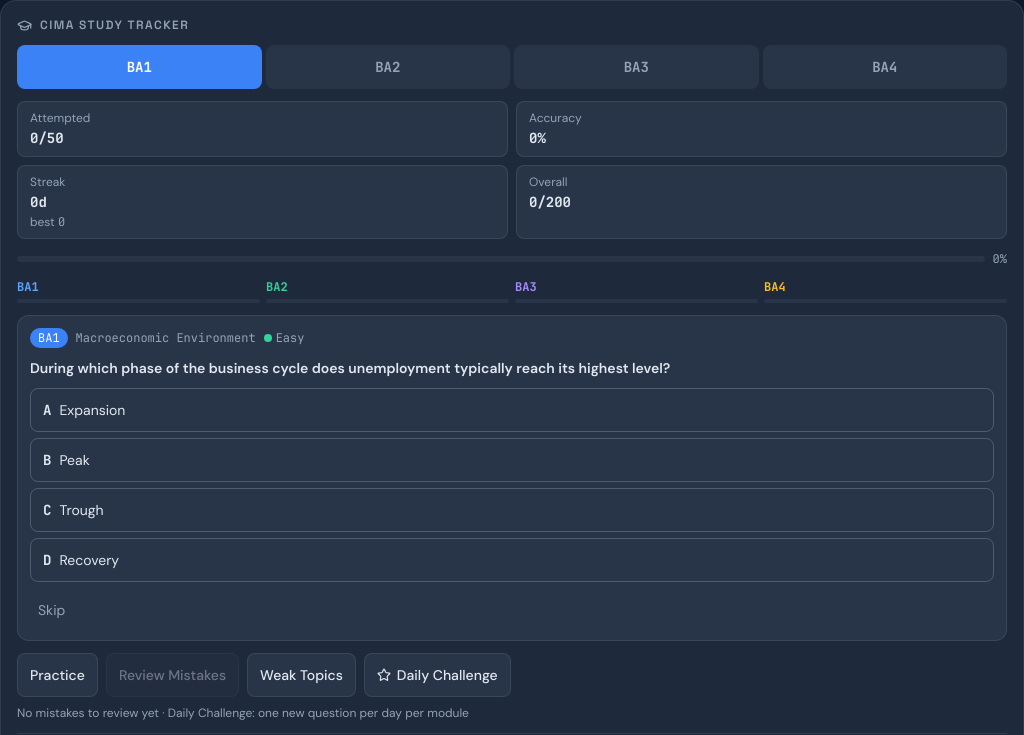
Test: CimaWidget daily challenge › is deterministic: unattempted pool sorted by id, dayOfYear() % pool size
This screenshot has width=1024, height=735.
Click the button "Daily Challenge". click: {"x": 437, "y": 675}
box: [364,653,511,697]
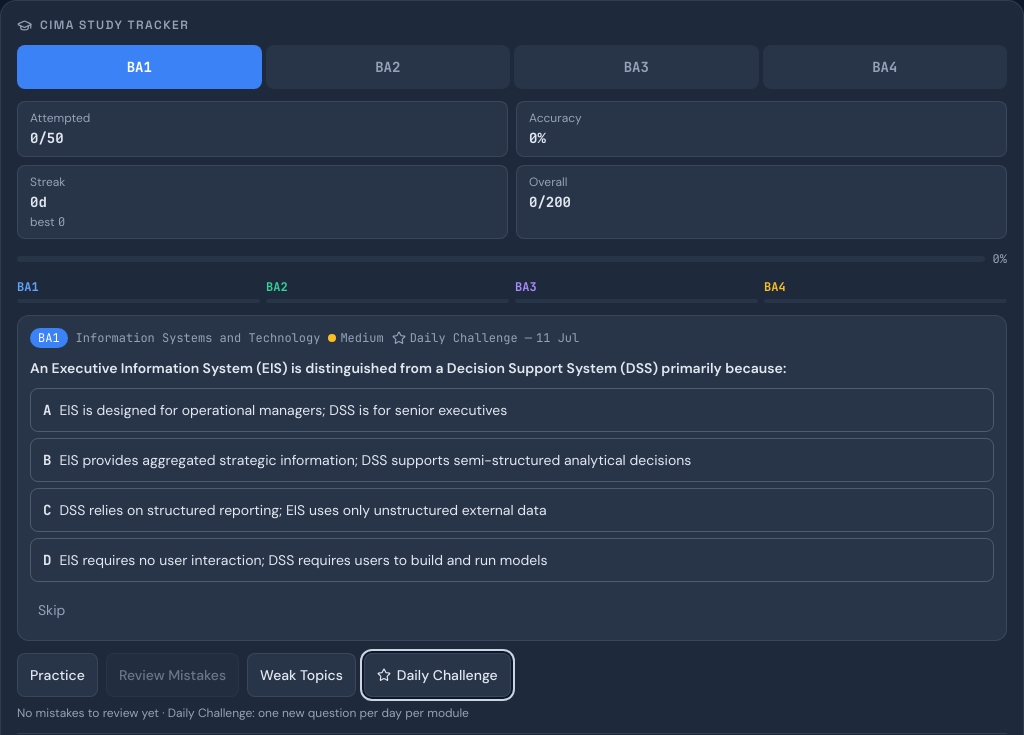
Check: the text "An Executive Information System (EIS) is distinguished from a Decision Support System (DSS) primarily because:" is shown, box [30,359,786,377]
Check: the text "Daily Challenge — 11 Jul" is shown, box [392,330,579,346]
